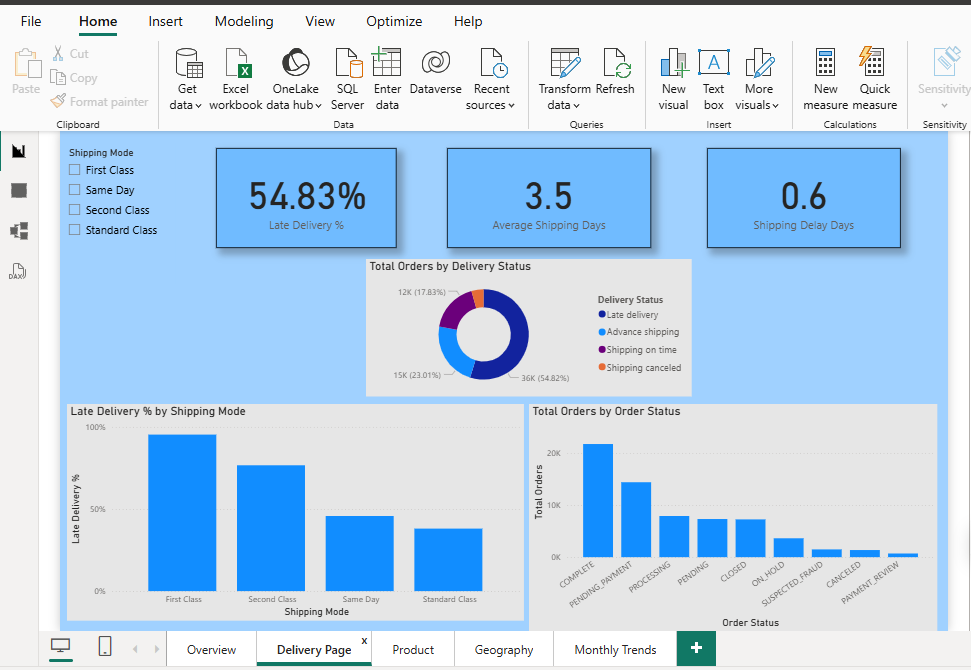

This screenshot's page, from the dashboard's own definition file:
{"tool":"powerbi","page":{"name":"Delivery Page","canvas":[1280,720],"ordinal":1},"visuals":[{"type":"card","fields":{"Values":["DataCoOrders.Late Delivery %"]},"box":[225.1,25.2,260.4,144.5],"z":0},{"type":"card","fields":{"Values":["DataCoOrders.Average Shipping Days"]},"box":[557.7,25.2,294,144.5],"z":1000},{"type":"card","fields":{"Values":["DataCoOrders.Shipping Delay Days"]},"box":[932.3,25.2,278.8,144.5],"z":2000},{"type":"donutChart","fields":{"Category":["DataCoOrders.Delivery Status"],"Y":["DataCoOrders.Total Orders"]},"box":[440.1,184.8,468.7,198.2],"z":3000},{"type":"columnChart","fields":{"Category":["DataCoOrders.Shipping Mode"],"Y":["DataCoOrders.Late Delivery %"]},"box":[10.1,393.1,658.5,312.4],"z":4000},{"type":"columnChart","fields":{"Category":["DataCoOrders.Order Status"],"Y":["DataCoOrders.Total Orders"]},"box":[675.3,393.1,587.9,327.6],"z":5000},{"type":"slicer","fields":{"Values":["DataCoOrders.Shipping Mode"]},"box":[0,16.8,166.3,203.3],"z":6000}]}

Visuals, with their boxes on the page's 1280x720 design canvas (x1, y1, x2, y2). These are canvas units, not pixel positions in the 971x670 screenshot, which may show the page scaled, cropped or inside an application window:
card - DataCoOrders.Late Delivery %: detection(225, 25, 486, 170)
card - DataCoOrders.Average Shipping Days: detection(558, 25, 852, 170)
card - DataCoOrders.Shipping Delay Days: detection(932, 25, 1211, 170)
donutChart - DataCoOrders.Delivery Status x DataCoOrders.Total Orders: detection(440, 185, 909, 383)
columnChart - DataCoOrders.Shipping Mode x DataCoOrders.Late Delivery %: detection(10, 393, 669, 706)
columnChart - DataCoOrders.Order Status x DataCoOrders.Total Orders: detection(675, 393, 1263, 721)
slicer - DataCoOrders.Shipping Mode: detection(0, 17, 166, 220)
